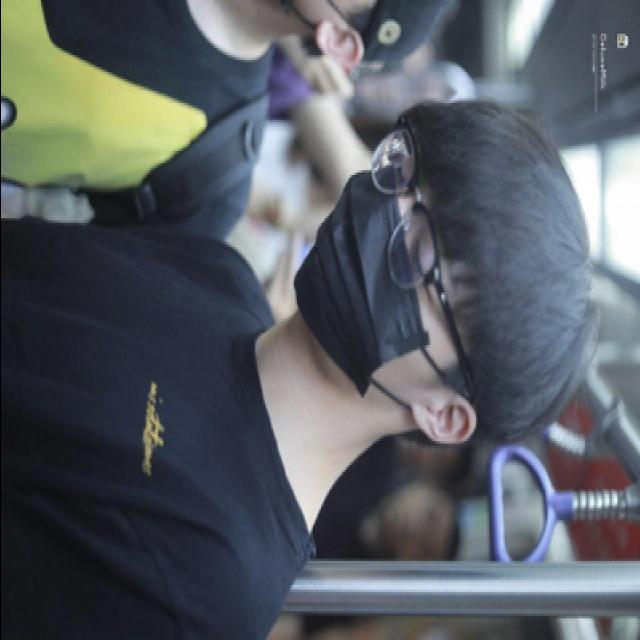mask: (292, 142, 470, 406)
